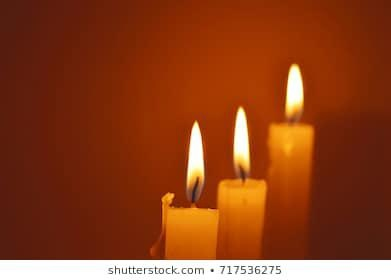fire: (185, 115, 205, 197), (231, 103, 250, 178), (282, 59, 304, 123)
